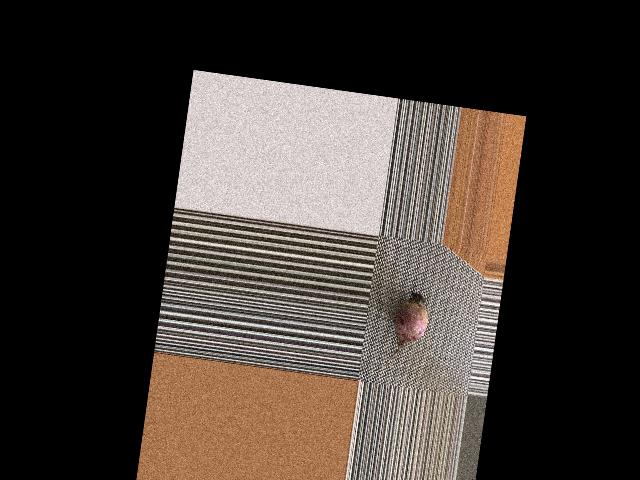beet: (372, 285, 431, 378)
